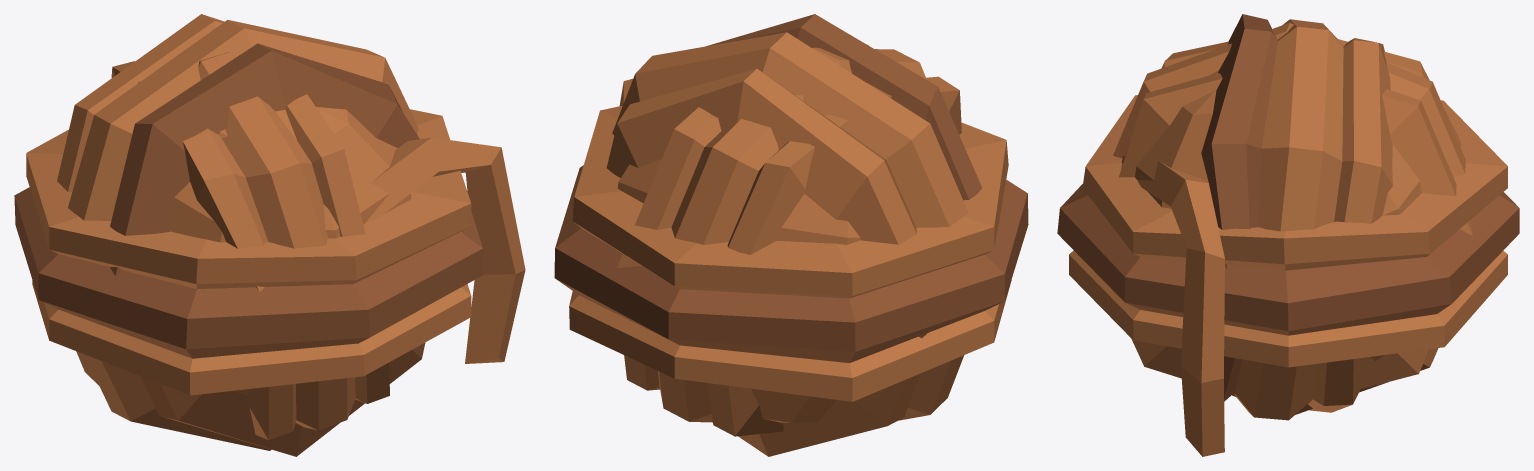
The model's file is kingdom_SM_Item_Yarn_01.gltf.
3 views of the same model, side by side, from view 1: azimuth 30°, elevation 25°; view 2: azimuth 150°, elevation 25°; view 3: azimuth 270°, elevation 25° (orthographic). The views are drawn at different scales.
Parts seen in each view (by area): view 1: SM_Item_Yarn_01; view 2: SM_Item_Yarn_01; view 3: SM_Item_Yarn_01.
Boxes of the visible parts, box(x1,y1,x2,y2) form: SM_Item_Yarn_01: box(14, 14, 525, 456); SM_Item_Yarn_01: box(554, 14, 1028, 456); SM_Item_Yarn_01: box(1057, 14, 1519, 456).
Size of the model in its own units: 0.1628 by 0.1436 by 0.155.
1 material, 1 textured.
